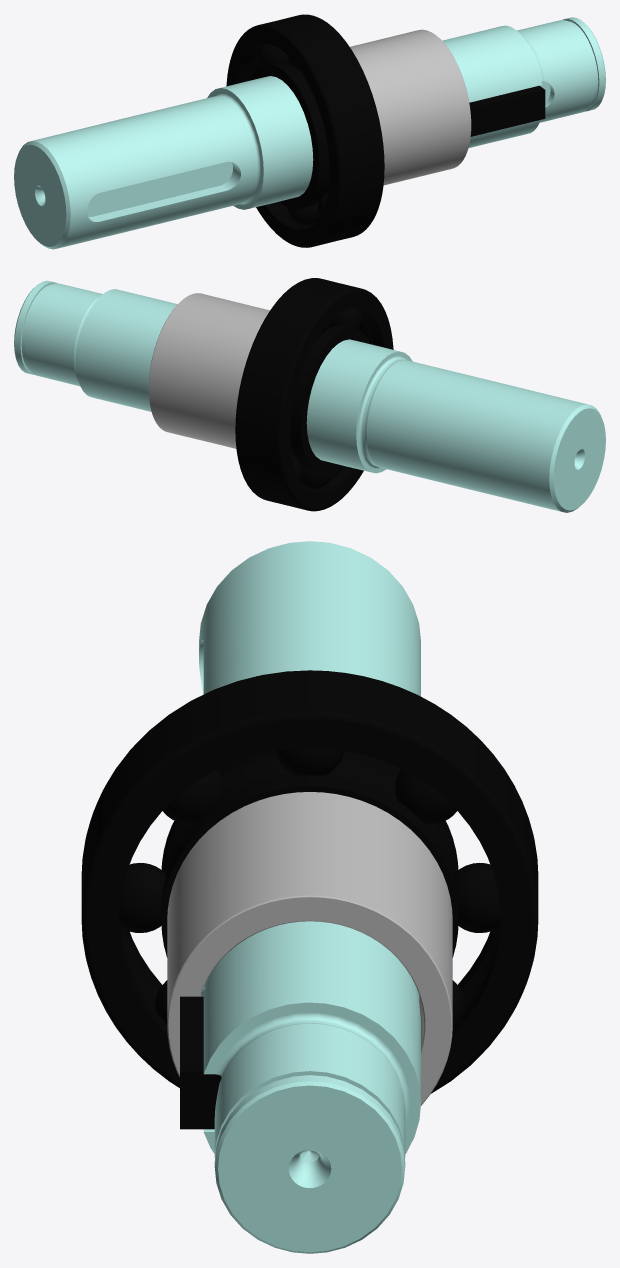
The model's file is Antrienswelle.fbx.
The picture shows the model from 3 angles, top to bottom: view 1: azimuth 30°, elevation 25°; view 2: azimuth 150°, elevation 25°; view 3: azimuth 270°, elevation 25°; orthographic projection. The views are drawn at different scales.
Parts seen in each view (by area): view 1: Body1 (×4); view 2: Body1 (×3); view 3: Body1 (×4).
Boxes of the visible parts, bbox=[...] form: Body1 (×4): bbox=[14, 14, 605, 249]; Body1 (×3): bbox=[14, 278, 605, 512]; Body1 (×4): bbox=[81, 541, 538, 1253].
Size of the model in its own units: 198 by 72 by 72.
